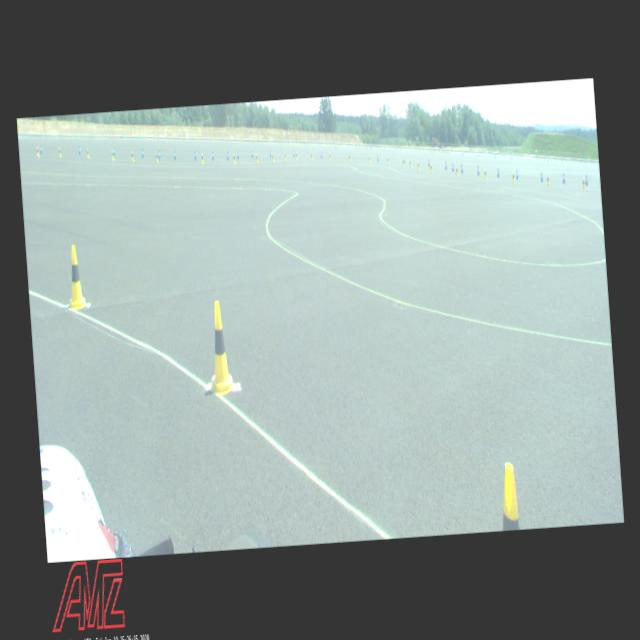blue_cone: (539, 170, 543, 181), (584, 174, 588, 185), (39, 144, 43, 154), (140, 148, 144, 158), (112, 146, 116, 156), (292, 149, 296, 157), (268, 149, 272, 157), (226, 150, 229, 160), (451, 162, 454, 172), (476, 165, 479, 175), (496, 167, 499, 177), (211, 150, 214, 160), (460, 162, 463, 172), (444, 161, 447, 170), (236, 150, 239, 159), (250, 149, 253, 158), (173, 150, 176, 158), (78, 146, 81, 154), (426, 158, 429, 166), (562, 172, 564, 183), (194, 150, 196, 160), (516, 169, 518, 179), (158, 149, 160, 158), (320, 150, 322, 158), (403, 156, 405, 164), (376, 154, 378, 161)
yellow_cone: (203, 298, 237, 396), (62, 243, 88, 310), (496, 462, 520, 530), (482, 168, 487, 179), (35, 146, 40, 157), (581, 177, 585, 189), (511, 170, 515, 182), (200, 153, 204, 164), (58, 146, 62, 157), (154, 151, 158, 162), (408, 158, 412, 168), (270, 152, 274, 162), (130, 150, 134, 160), (232, 152, 235, 164), (255, 152, 258, 164), (111, 148, 114, 160), (455, 165, 458, 176), (546, 174, 549, 185), (294, 152, 298, 160), (416, 160, 419, 170), (310, 150, 313, 160), (86, 148, 89, 158), (429, 163, 432, 173), (386, 156, 389, 164), (328, 152, 331, 160), (401, 158, 404, 166), (284, 151, 286, 160), (348, 153, 350, 161), (368, 154, 370, 162)
